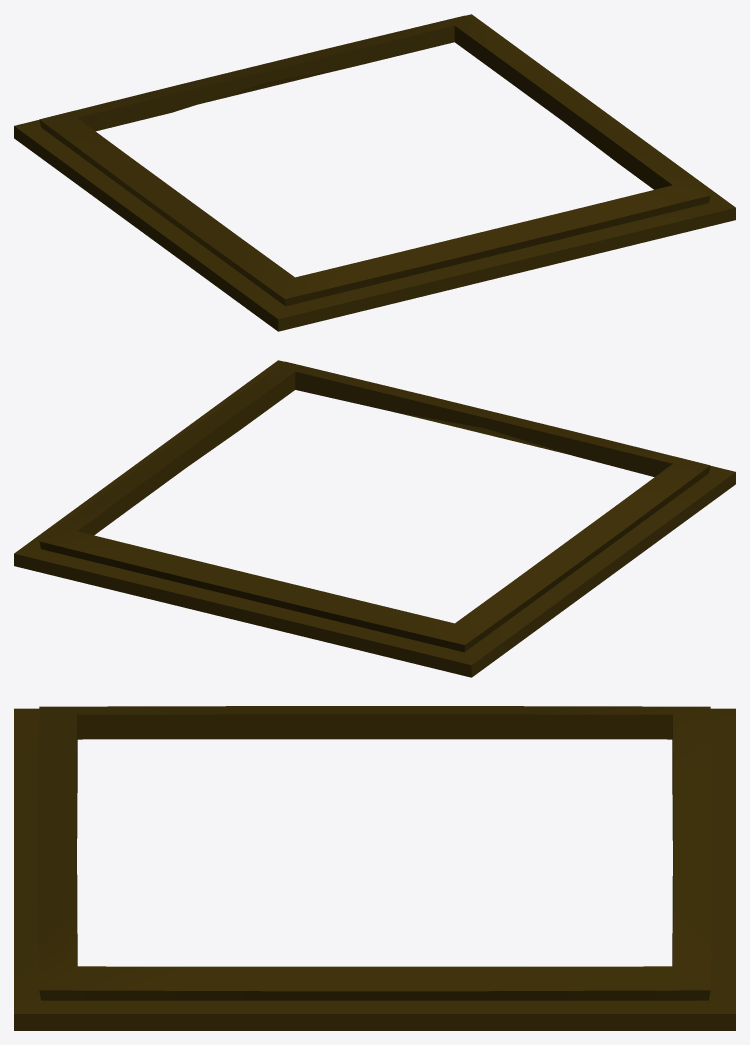
File: trapdoor_frame.fbx
The picture shows the model from 3 angles, top to bottom: view 1: azimuth 30°, elevation 25°; view 2: azimuth 150°, elevation 25°; view 3: azimuth 270°, elevation 25°; orthographic projection. The views are drawn at different scales.
Visible parts, largest first — view 1: trapdoor_frame; view 2: trapdoor_frame; view 3: trapdoor_frame.
Part boxes in pixels (box(x1,y1,x2,y2)): trapdoor_frame: box(14, 14, 735, 331); trapdoor_frame: box(14, 360, 735, 677); trapdoor_frame: box(14, 706, 735, 1030).
Bounding box in the file's own units: 1 × 0.0608 × 1.
